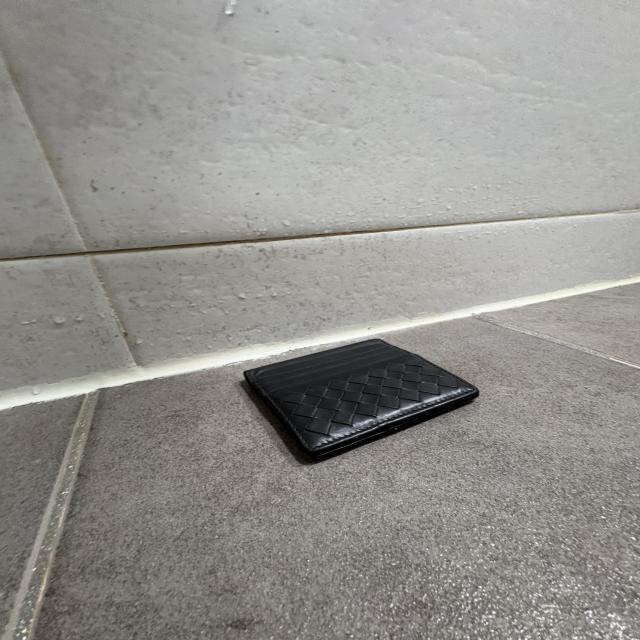wallet: (238, 336, 480, 468)
